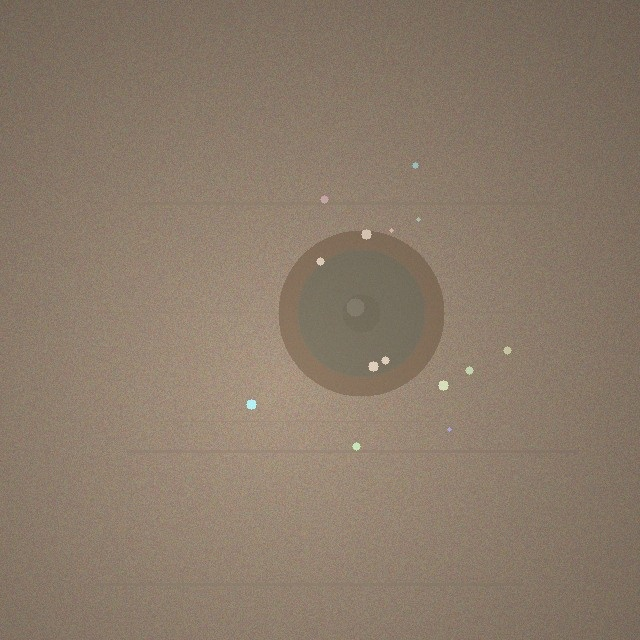overburn: (278, 230, 444, 396)
